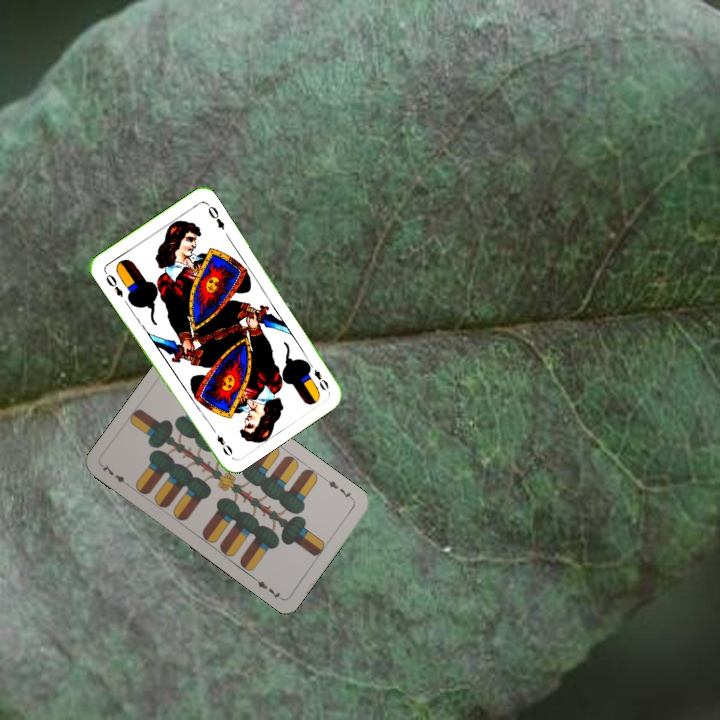E7: (97, 460, 133, 490), (321, 474, 357, 503)
EO: (304, 358, 332, 393), (100, 267, 126, 300)
